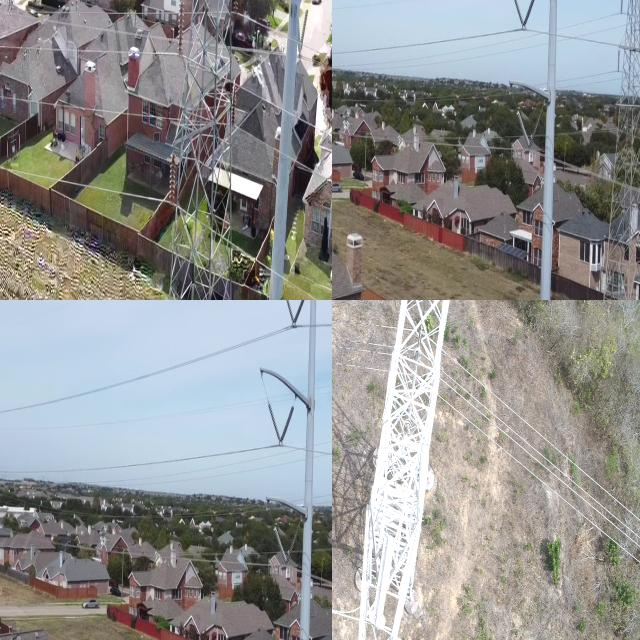杆塔: (353, 300, 473, 640), (163, 0, 240, 300), (592, 0, 640, 300)
正常绝缘子: (509, 96, 537, 160), (266, 512, 294, 576), (519, 107, 546, 167), (276, 523, 303, 583), (261, 391, 286, 451), (274, 400, 300, 456), (286, 300, 310, 339), (517, 0, 540, 40), (510, 0, 529, 35), (168, 149, 178, 210), (283, 300, 299, 333), (175, 0, 184, 58), (229, 78, 238, 130), (615, 46, 622, 73), (231, 0, 240, 16), (619, 0, 625, 18)
